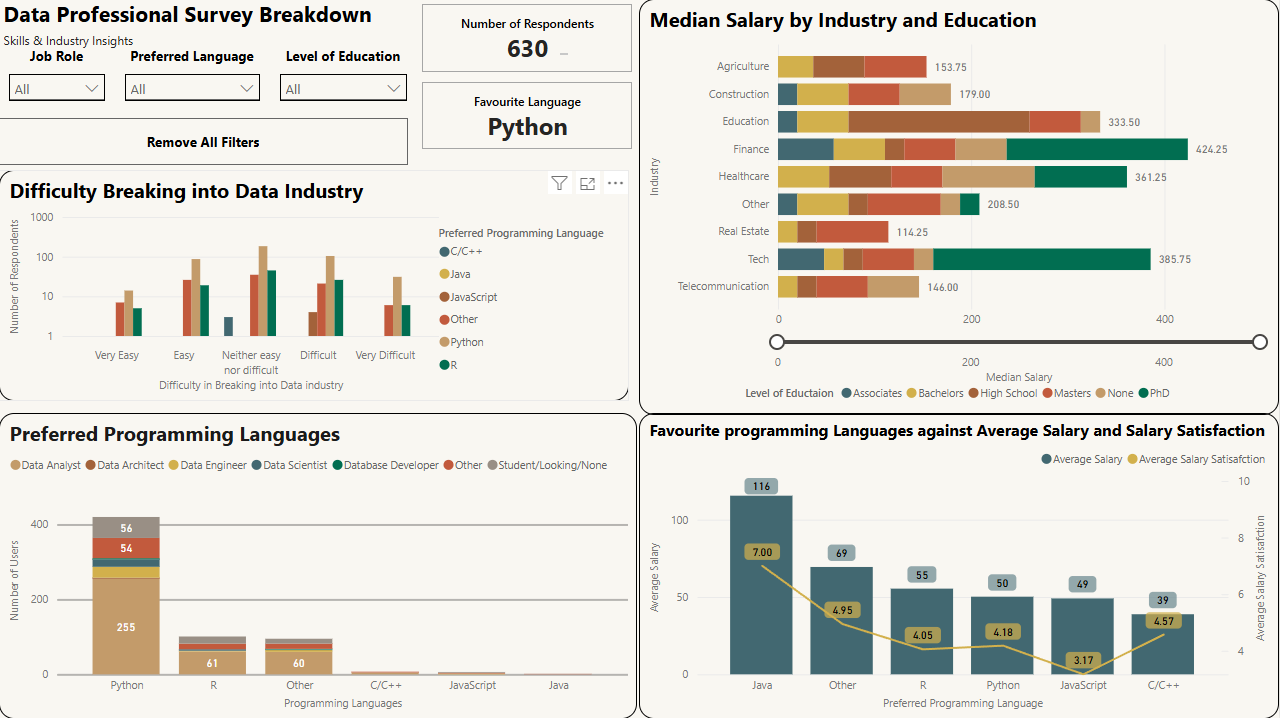

The dashboard page shown, as its layout file describes it:
{"tool":"powerbi","page":{"name":"Skills & Industry Analysis","canvas":[1280,720],"ordinal":2},"visuals":[{"type":"columnChart","title":"Preferred Programming Languages","fields":{"Category":["Data Professional Survey.Q5 - Favorite Programming Language.1"],"Series":["Data Professional Survey.Q1 - Which Title Best Fits your Current Role?.1"],"Y":["Data Professional Survey.Number of Respondents"]},"box":[0,414,638,306],"z":0},{"type":"lineClusteredColumnComboChart","title":"Favourite programming Languages against Average Salary and Salary Satisfaction","fields":{"Category":["Data Professional Survey.Q5 - Favorite Programming Language.1"],"Y":["Avg(Data Professional Survey.Average Salary)"],"Y2":["Avg(Data Professional Survey.Q6 - How Happy are you in your Current Position with the following? (Salary))"]},"box":[640,414.4,640,305.6],"z":1000},{"type":"clusteredColumnChart","title":"Difficulty Breaking into Data Industry","fields":{"Category":["Sort Order Table.Q7 - How difficult was it for you to break into Data?"],"Series":["Data Professional Survey.Q5 - Favorite Programming Language.1"],"Y":["Data Professional Survey.Number of Respondents"]},"box":[0,171.1,630,231.1],"z":2000},{"type":"cardVisual","title":"Total Survey Respondents","fields":{"Data":["Data Professional Survey.Number of Respondents"]},"box":[417.5,0,220,77.5],"z":3000},{"type":"slicer","title":"Job Role","fields":{"Values":["Data Professional Survey.Q1 - Which Title Best Fits your Current Role?.1"]},"box":[0,47.8,115.6,95.6],"z":4000},{"type":"slicer","title":"Preferred Language","fields":{"Values":["Data Professional Survey.Q5 - Favorite Programming Language.1"]},"box":[115.6,47.8,155.6,95.6],"z":5000},{"type":"actionButton","box":[0,118.8,408.8,47.5],"z":6000},{"type":"barChart","title":"Median Salary by Industry and Education","fields":{"Category":["Data Professional Survey.Q4 - What Industry do you work in?.1"],"Series":["Data Professional Survey.Highest Level of Eductaion"],"Y":["Median(Data Professional Survey.Average Salary)"]},"box":[640,0,640,415.6],"z":7000},{"type":"slicer","title":"Level of Education","fields":{"Values":["Data Professional Survey.Highest Level of Eductaion"]},"box":[271.1,47.8,146.7,95.6],"z":8000},{"type":"textbox","title":"Data Professional Survey Breakdown","box":[0,0,574.4,61.1],"z":9000},{"type":"cardVisual","title":"Total Survey Respondents","fields":{"Data":["Data Professional Survey.Most Common Lang"]},"box":[417.5,77.5,220,77.5],"z":10000}]}

Visuals, with their boxes in screenshot pixels (x1, y1, x2, y2), scaled from the page's 1280x720 canvas onto the 1280x718 screenshot:
"Preferred Programming Languages" columnChart: select_region(0, 413, 638, 717)
"Favourite programming Languages against Average Salary and Salary Satisfaction" lineClusteredColumnComboChart: select_region(640, 413, 1279, 717)
"Difficulty Breaking into Data Industry" clusteredColumnChart: select_region(0, 171, 630, 401)
"Total Survey Respondents" cardVisual: select_region(418, 0, 638, 77)
"Job Role" slicer: select_region(0, 48, 116, 143)
"Preferred Language" slicer: select_region(116, 48, 271, 143)
actionButton: select_region(0, 118, 409, 166)
"Median Salary by Industry and Education" barChart: select_region(640, 0, 1279, 414)
"Level of Education" slicer: select_region(271, 48, 418, 143)
"Data Professional Survey Breakdown" textbox: select_region(0, 0, 574, 61)
"Total Survey Respondents" cardVisual: select_region(418, 77, 638, 155)
